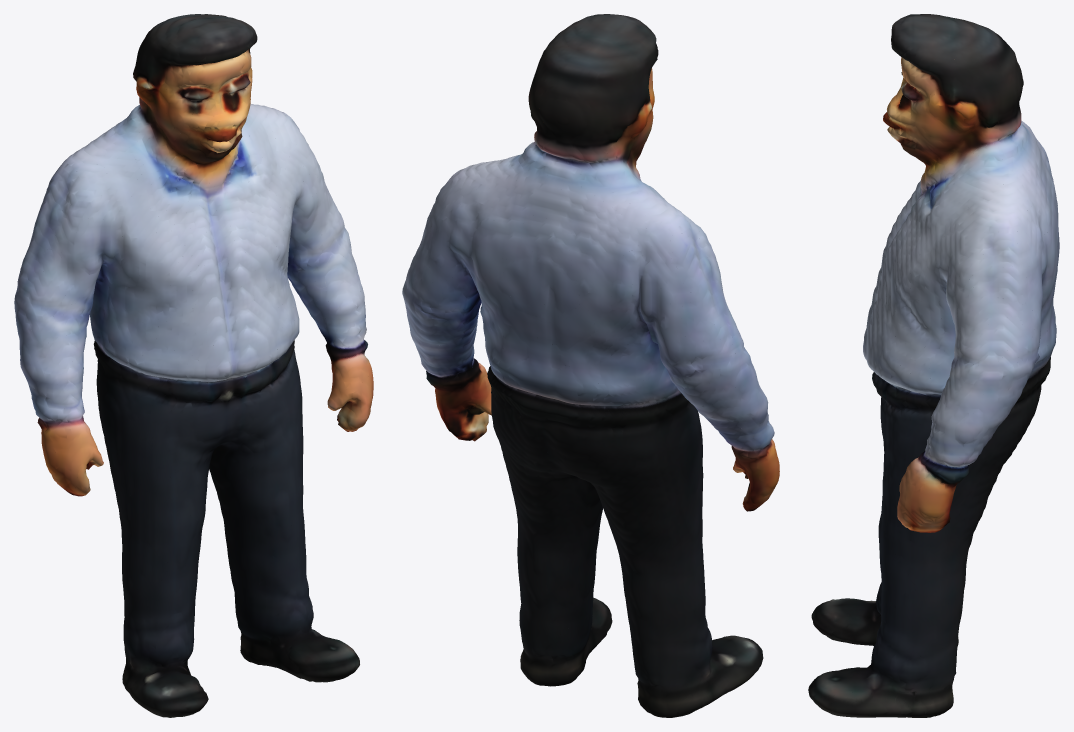
Rendered from AbdullahEkinci_Normalized.obj.
3 views of the same model, side by side, from view 1: azimuth 30°, elevation 25°; view 2: azimuth 150°, elevation 25°; view 3: azimuth 270°, elevation 25° (orthographic). The views are drawn at different scales.
Parts seen in each view (by area): view 1: mesh; view 2: mesh; view 3: mesh.
Boxes of the visible parts, x1,y1,x2,y2 form: mesh: (14,14,373,717); mesh: (402,14,779,717); mesh: (808,14,1059,717).
Size of the model in its own units: 0.9698 by 1.8 by 0.6203.
Materials: 1 (1 with a texture image).
